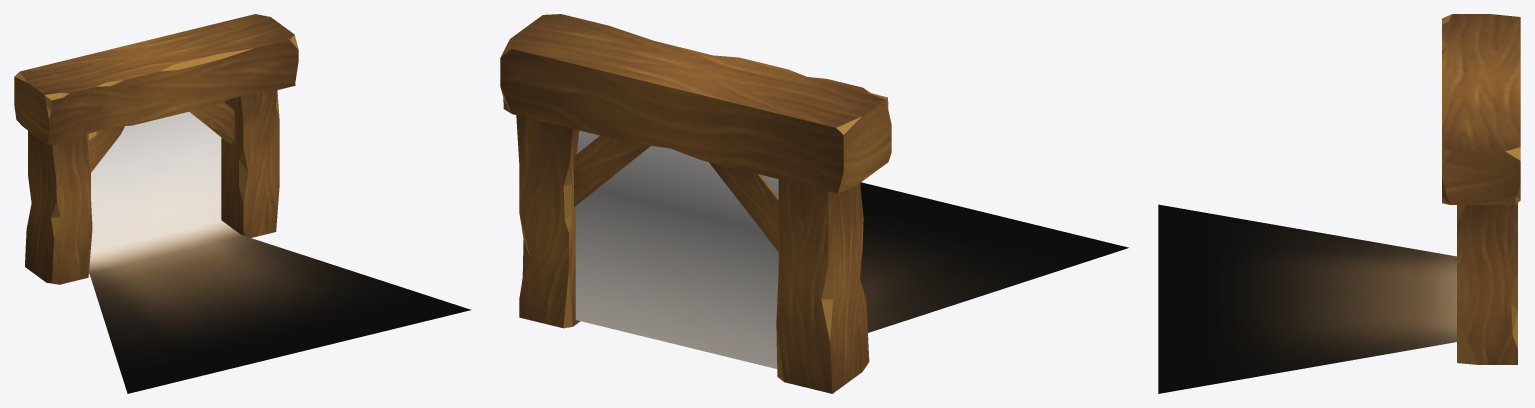
Rendered from DungeonExit_HD.fbx.
The picture shows the model from 3 angles, left to right: view 1: azimuth 30°, elevation 25°; view 2: azimuth 150°, elevation 25°; view 3: azimuth 270°, elevation 25°; orthographic projection. The views are drawn at different scales.
Parts seen in each view (by area): view 1: add, wood2; view 2: wood2, add; view 3: add, wood2.
Boxes of the visible parts, x1,y1,x2,y2 form: add: (89, 112, 470, 393); wood2: (14, 14, 298, 284); wood2: (500, 14, 891, 393); add: (575, 130, 1128, 368); add: (1158, 204, 1456, 393); wood2: (1442, 14, 1520, 364).
Size of the model in its own units: 3.65 by 1.98 by 2.95.
